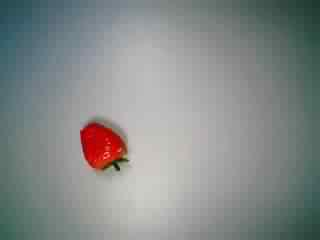strawberry: (69, 114, 135, 176)
